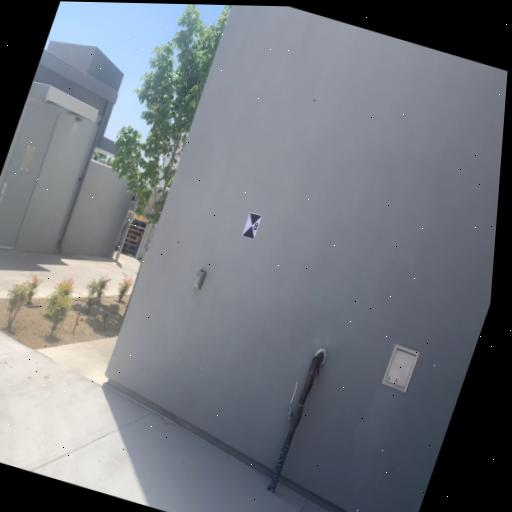target8: (241, 211, 263, 241)
